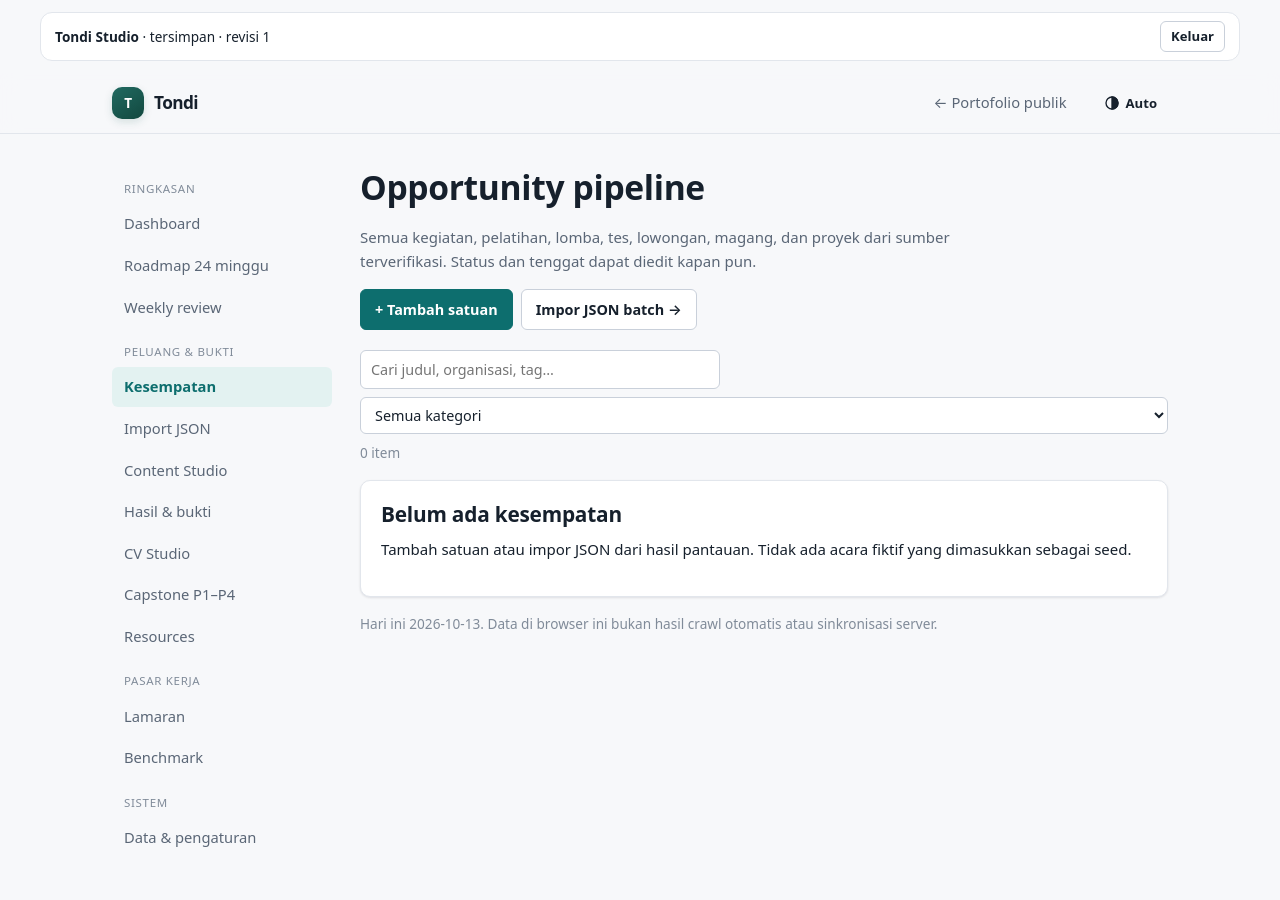
Scenario: owner workspace › opens an empty opportunity form
Click the button "+ Tambah satuan": (436, 309) [360,289,513,330]
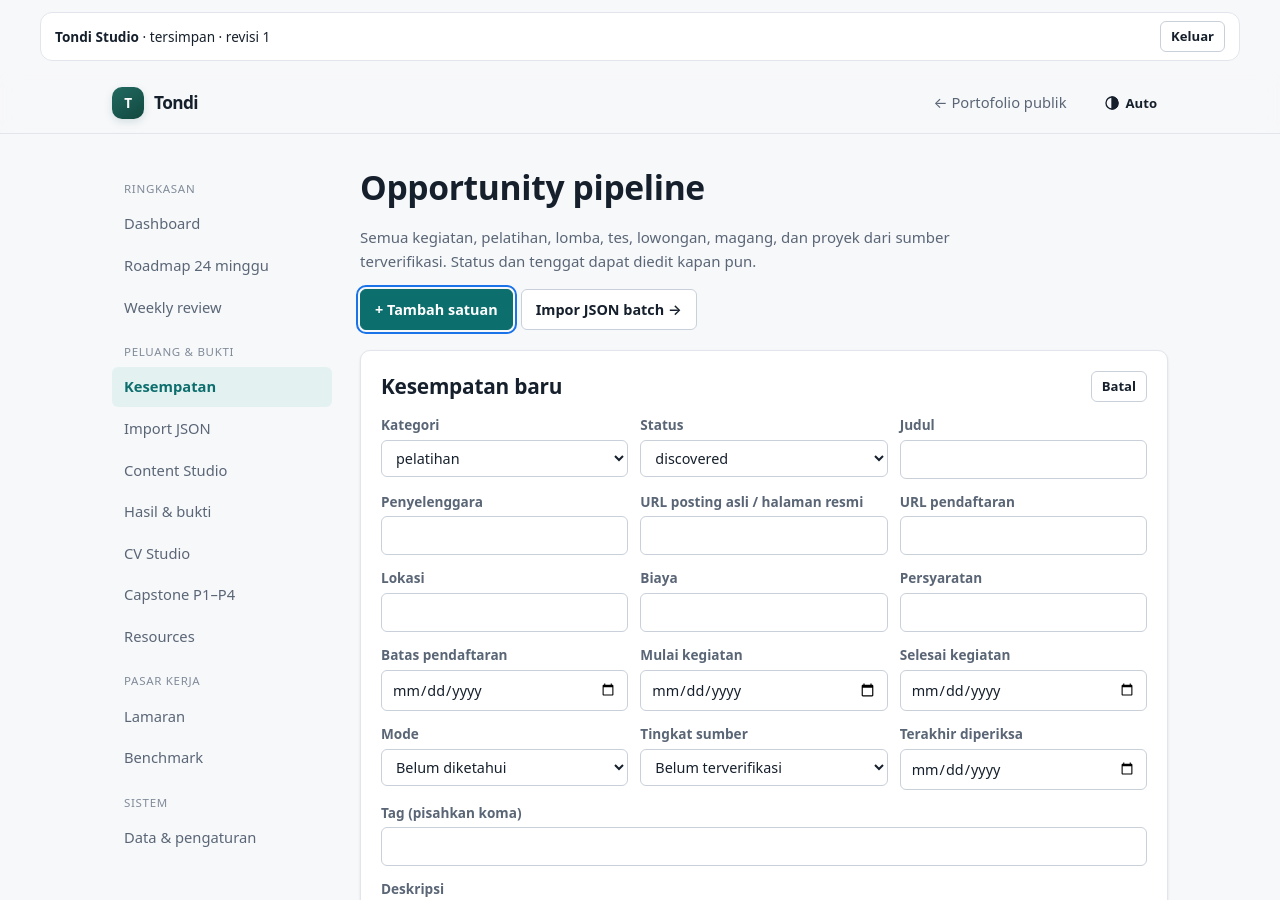
Result: the heading "Kesempatan baru" is shown at [381,373,562,399]
